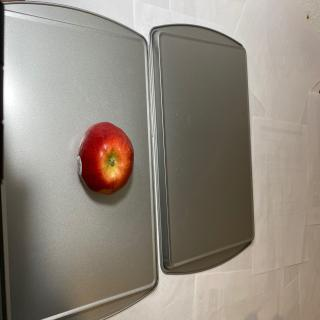Apple: (77, 121, 134, 195)
